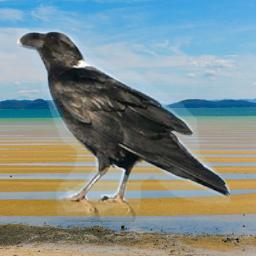Crow: (17, 28, 230, 222)
